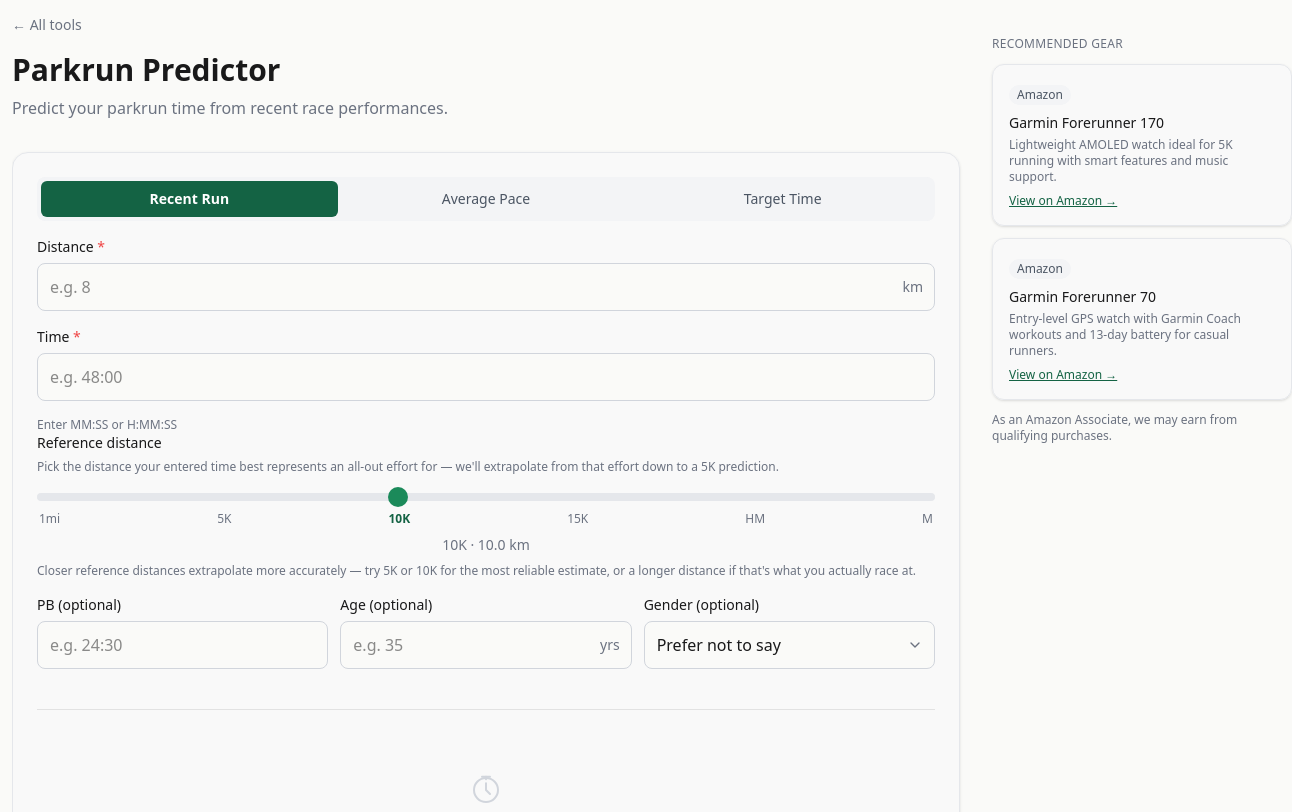
Scenario: Parkrun page › switching to Average Pace mode shows pace input (AC2)
The width and height of the screenshot is (1292, 812).
Step 1. Click the tab "Average Pace" → (486, 199), box [338, 181, 634, 217]
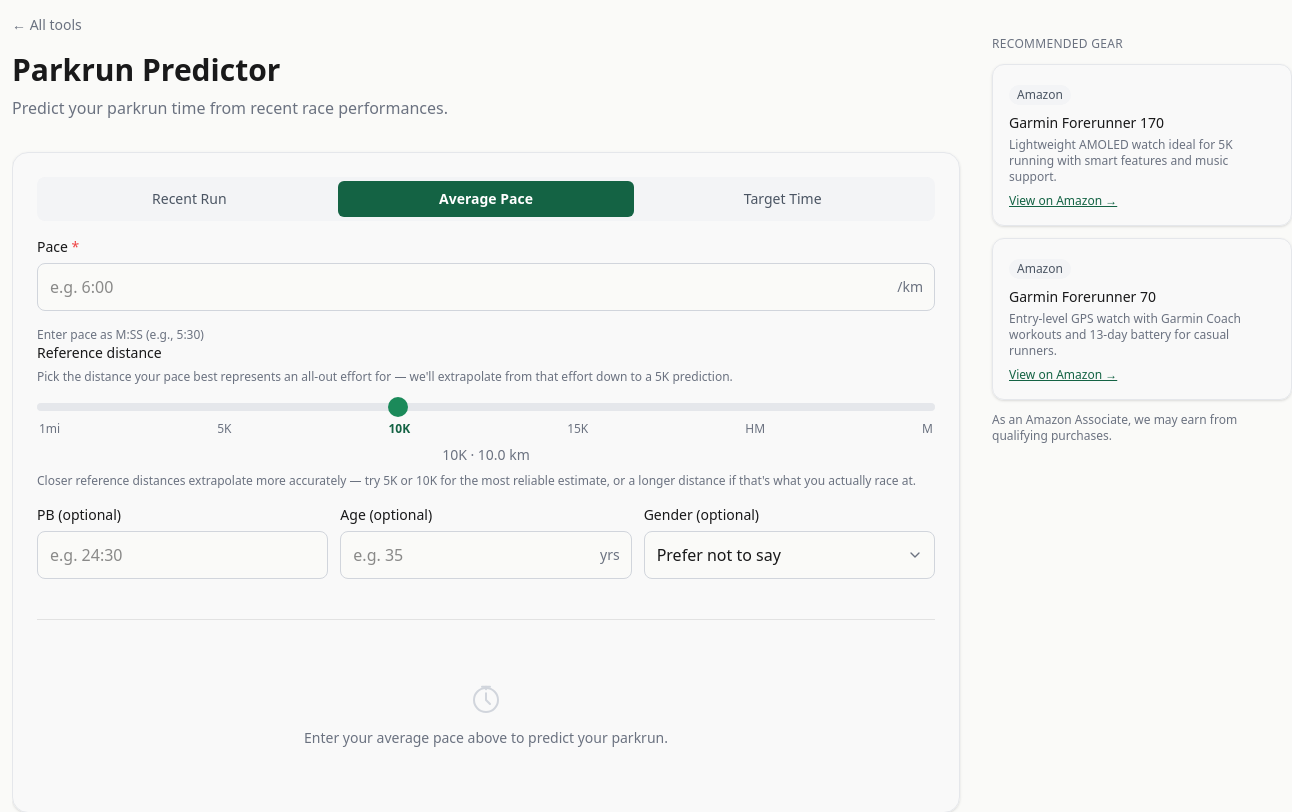
Check: the field labelled "Pace *" is shown, box [37, 263, 935, 311]
